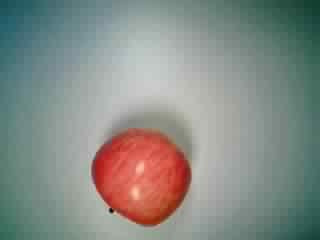apple: (88, 127, 195, 230)
